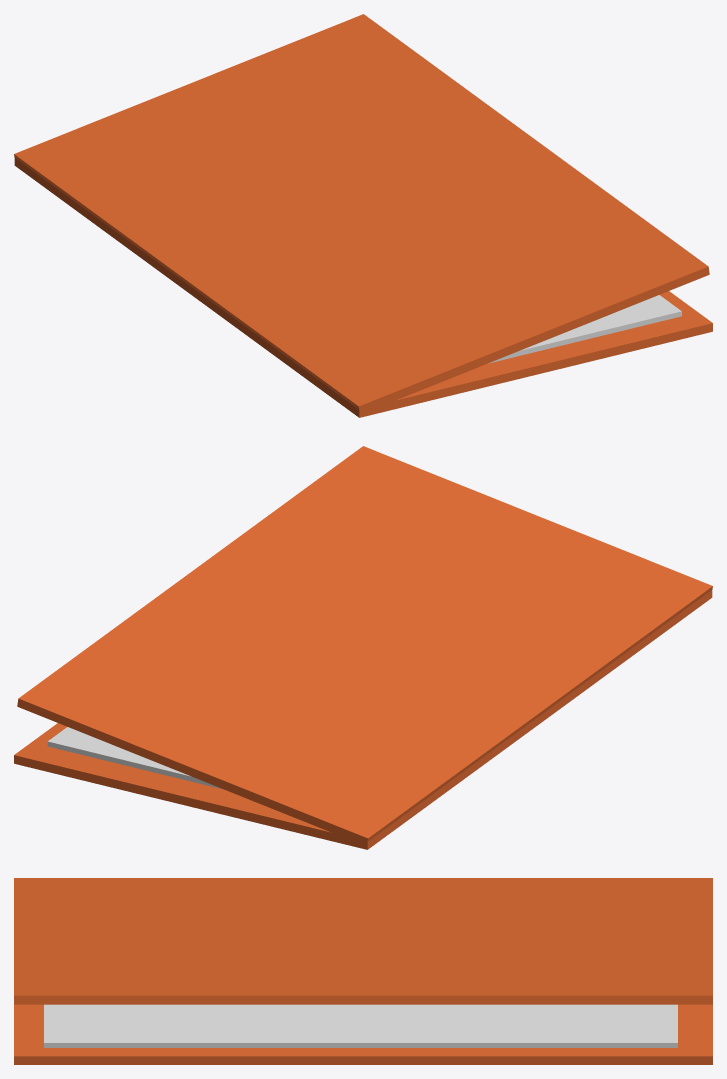
The model's file is thedocuments.fbx.
The picture shows the model from 3 angles, top to bottom: view 1: azimuth 30°, elevation 25°; view 2: azimuth 150°, elevation 25°; view 3: azimuth 270°, elevation 25°; orthographic projection.
Visible parts, largest first — view 1: Cube.001; view 2: Cube.001; view 3: Cube.001.
Boxes of the visible parts, <box> form: Cube.001: <box>14,14,712,417</box>; Cube.001: <box>14,446,712,849</box>; Cube.001: <box>14,878,712,1064</box>.
Size of the model in its own units: 200 by 35.84 by 338.
